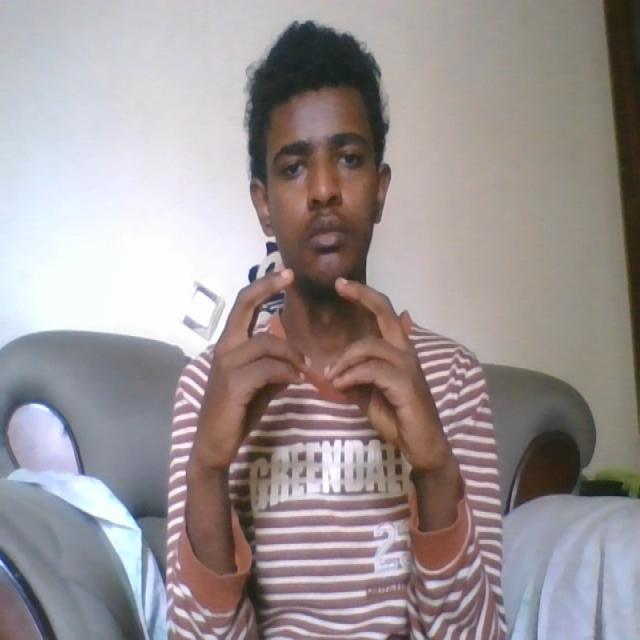sefer: (202, 268, 437, 466)
